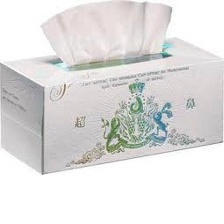book: (0, 34, 224, 176)
tissue: (37, 0, 175, 69)
